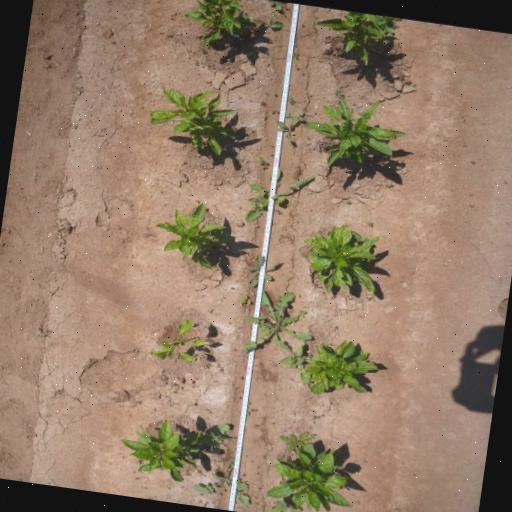plant: (299, 94, 414, 178), (144, 80, 243, 157), (150, 196, 238, 272), (264, 442, 355, 511), (302, 222, 382, 294), (118, 420, 203, 484), (313, 10, 396, 68), (305, 339, 381, 398), (168, 0, 244, 50), (146, 314, 212, 364)
weed: (243, 288, 314, 354), (244, 167, 315, 224), (190, 452, 256, 506), (276, 339, 317, 385), (238, 8, 284, 40), (244, 251, 282, 289), (196, 418, 234, 453), (278, 430, 317, 454), (265, 498, 310, 512), (274, 114, 296, 142), (376, 15, 400, 35), (290, 308, 308, 323), (284, 108, 304, 119), (266, 0, 283, 10), (334, 88, 346, 98), (240, 294, 252, 304), (312, 412, 326, 420), (258, 155, 268, 164), (287, 96, 297, 104), (274, 207, 284, 215), (312, 282, 322, 290), (384, 181, 394, 187), (203, 408, 213, 414), (272, 108, 281, 114), (200, 47, 207, 53), (269, 142, 276, 148), (367, 220, 374, 226), (366, 295, 373, 301), (253, 424, 260, 430), (260, 100, 266, 106), (345, 198, 351, 204), (191, 401, 197, 407), (170, 380, 176, 386), (245, 410, 251, 416), (134, 458, 140, 464), (250, 408, 258, 412), (268, 152, 274, 156), (262, 165, 268, 169), (194, 199, 200, 203), (334, 324, 338, 330), (246, 400, 252, 404), (241, 473, 245, 478), (237, 396, 241, 400), (172, 389, 176, 393), (321, 291, 324, 293), (240, 376, 242, 379)
